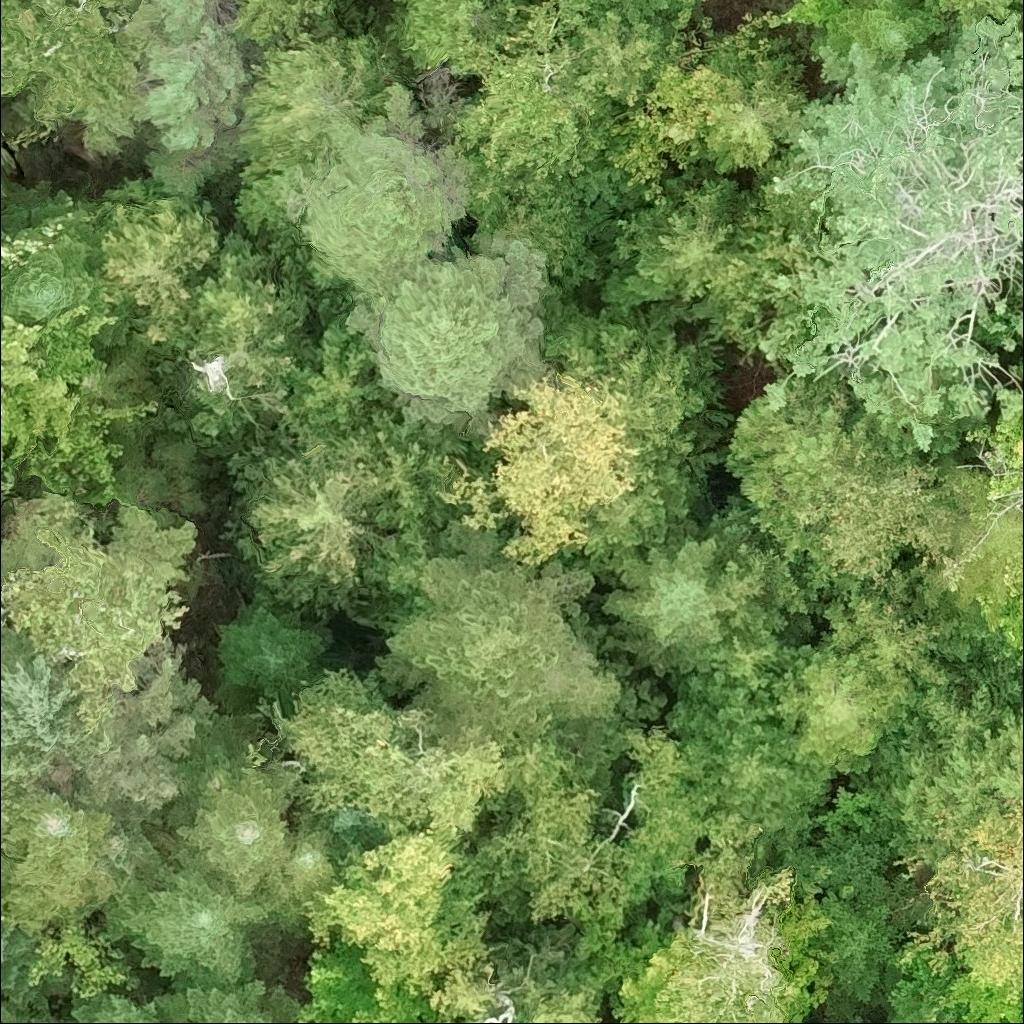crown: (762, 7, 1023, 453), (372, 505, 625, 750), (476, 726, 716, 931), (435, 360, 646, 567), (275, 75, 470, 298), (342, 230, 549, 438), (0, 500, 190, 724), (268, 668, 510, 839), (291, 324, 456, 549), (300, 820, 491, 1000), (748, 445, 962, 602), (70, 632, 219, 832), (226, 437, 377, 617), (869, 701, 1023, 875), (234, 30, 402, 184), (451, 0, 595, 179), (896, 794, 1023, 986), (585, 518, 739, 675), (726, 346, 857, 509), (118, 863, 279, 989), (768, 645, 916, 777), (167, 758, 303, 896), (91, 174, 217, 318), (0, 0, 142, 125), (0, 791, 118, 927), (0, 179, 107, 321), (0, 639, 96, 788), (814, 592, 951, 694), (213, 596, 331, 714), (387, 0, 541, 78), (635, 190, 736, 307), (704, 74, 805, 175), (256, 814, 339, 928), (94, 824, 174, 937), (27, 923, 140, 997), (814, 0, 950, 61), (649, 62, 746, 147), (174, 712, 258, 804), (292, 942, 387, 1023), (609, 936, 692, 1023), (155, 974, 302, 1023), (230, 0, 346, 45), (966, 411, 1023, 501), (428, 965, 503, 1023), (946, 967, 1023, 1023), (0, 926, 48, 1011), (994, 540, 1023, 668), (68, 989, 166, 1023), (529, 984, 605, 1023), (923, 0, 1023, 27), (595, 0, 699, 20), (0, 749, 16, 824), (0, 997, 17, 1023), (0, 170, 11, 204), (0, 653, 1, 678)
